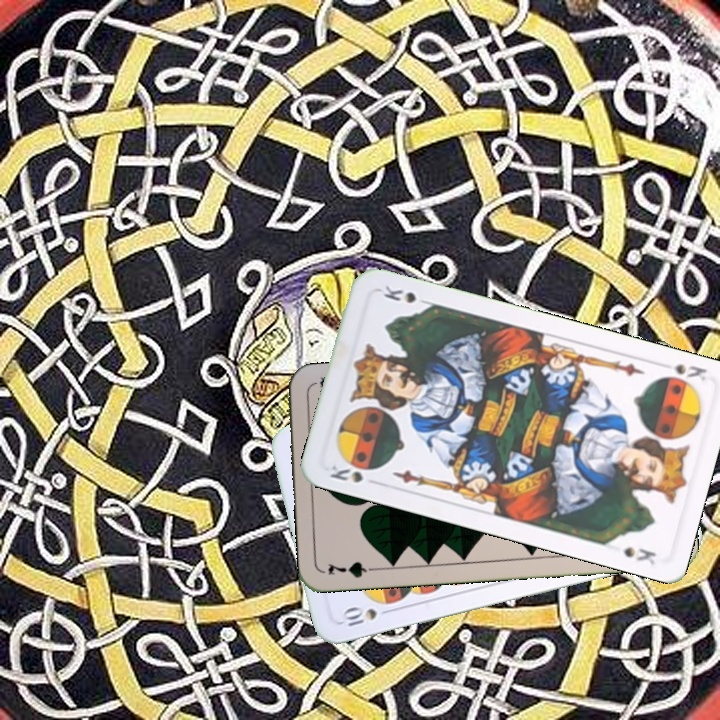G7: (324, 557, 382, 580)
S10: (338, 604, 396, 629)
SK: (654, 359, 710, 389), (326, 460, 382, 488)
